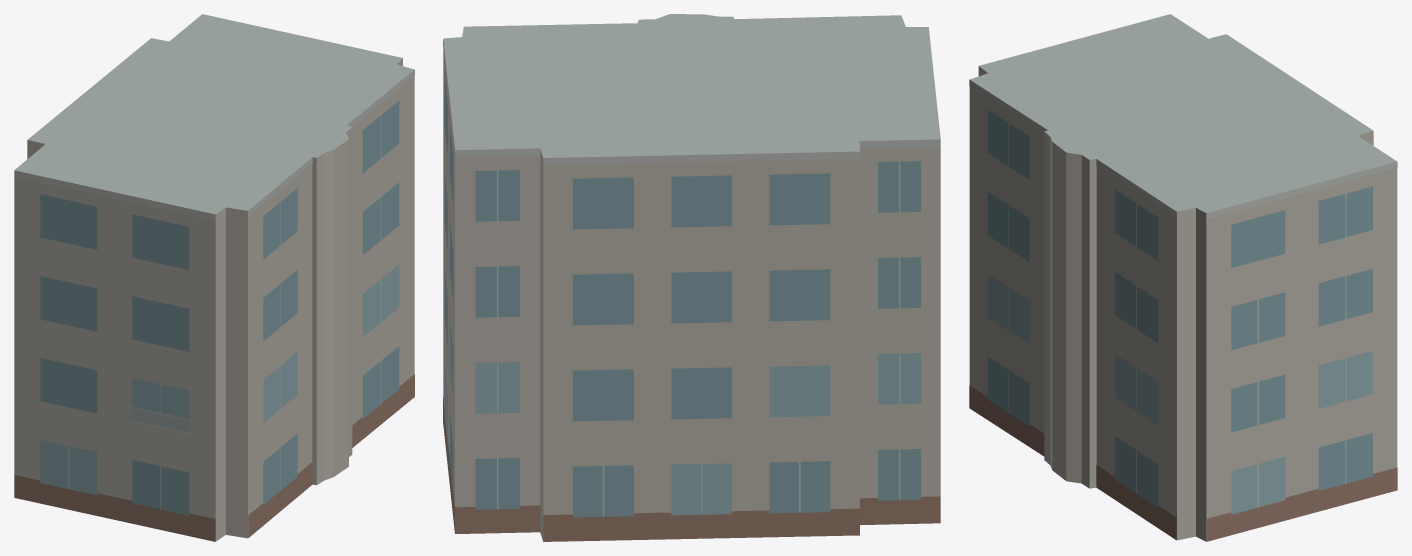
File: survey-upis-32970797.glb
3 renders of one model, left to right at view 1: azimuth 30°, elevation 25°; view 2: azimuth 150°, elevation 25°; view 3: azimuth 270°, elevation 25°, orthographic. The views are drawn at different scales.
Visible parts, largest first — view 1: survey-upis-32970797.tmp; view 2: survey-upis-32970797.tmp; view 3: survey-upis-32970797.tmp.
Boxes of the visible parts, left/top/right/bottom form: survey-upis-32970797.tmp: left=14, top=14, right=414, bottom=541; survey-upis-32970797.tmp: left=443, top=14, right=940, bottom=541; survey-upis-32970797.tmp: left=969, top=14, right=1397, bottom=541.
Size of the model in its own units: 17.16 by 13.2 by 15.58.
